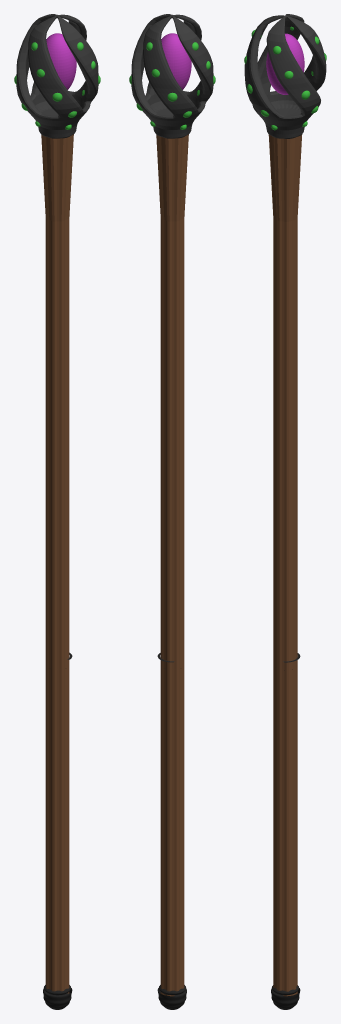
File: jesul.fbx
The picture shows the model from 3 angles, left to right: view 1: azimuth 30°, elevation 25°; view 2: azimuth 210°, elevation 25°; view 3: azimuth 330°, elevation 25°; orthographic projection.
Parts seen in each view (by area): view 1: sticc, head, Sphere, bottom, ballz; view 2: sticc, head, Sphere, bottom, ballz; view 3: sticc, head, Sphere, bottom, ballz.
Boxes of the visible parts, x1=… form: sticc: x1=41, y1=134, x2=73, y2=993; head: x1=16, y1=14, x2=98, y2=669; Sphere: x1=46, y1=33, x2=76, y2=89; bottom: x1=43, y1=985, x2=72, y2=1009; ballz: x1=14, y1=42, x2=100, y2=129; sticc: x1=156, y1=134, x2=188, y2=996; head: x1=131, y1=14, x2=213, y2=669; Sphere: x1=161, y1=33, x2=191, y2=89; bottom: x1=157, y1=985, x2=186, y2=1009; ballz: x1=129, y1=42, x2=215, y2=129; sticc: x1=268, y1=134, x2=302, y2=996; head: x1=244, y1=14, x2=326, y2=670; Sphere: x1=266, y1=33, x2=304, y2=94; bottom: x1=271, y1=985, x2=300, y2=1009; ballz: x1=244, y1=26, x2=326, y2=130.
Size of the model in its own units: 420 by 5652 by 420.
